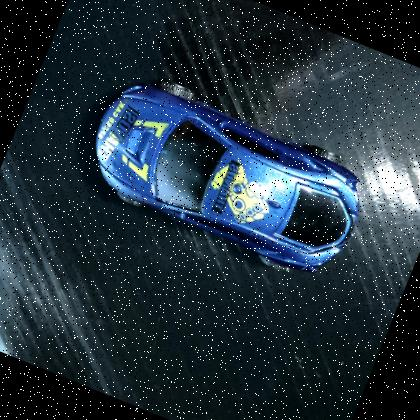Car: (65, 54, 392, 302)
